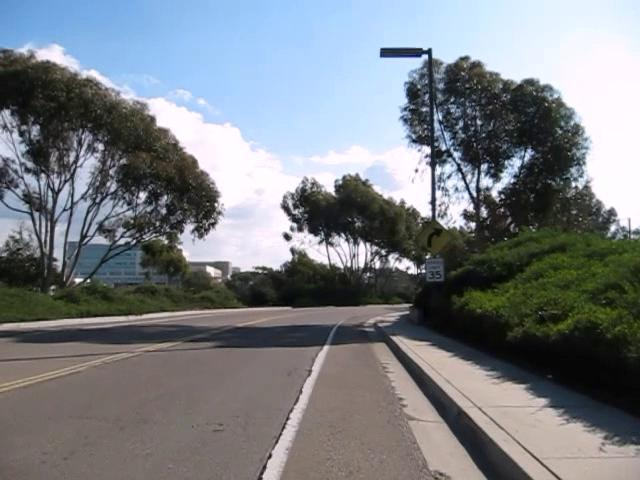speedLimit35: (424, 256, 444, 282)
